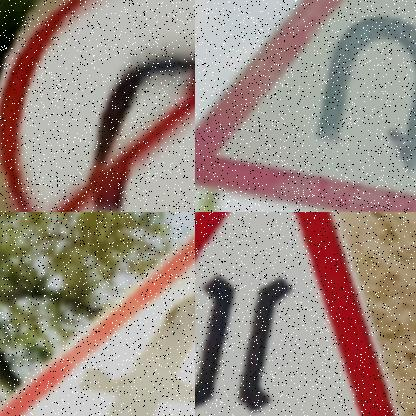Bridge Ahead: (195, 212, 397, 416)
Cross Roads: (0, 234, 195, 416)
No right turn: (0, 0, 195, 212)
